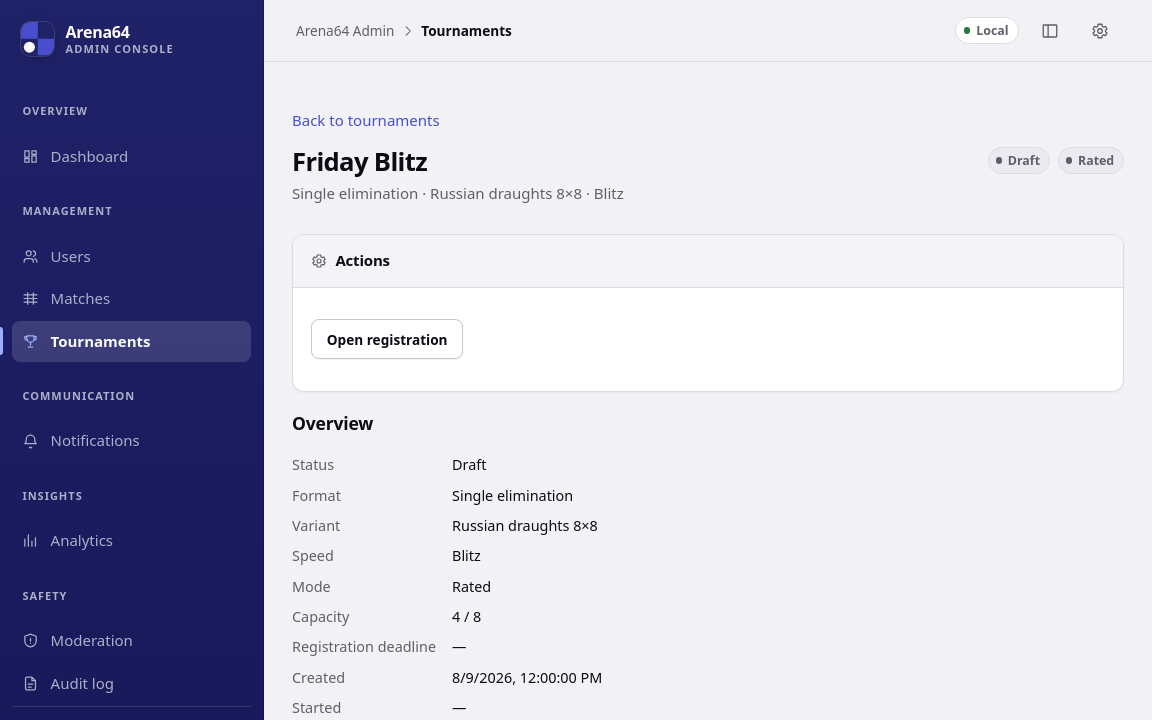
it: sends a bodyless command and re-reads the tournament afterwards
What coordinates should you click on to do the following:
click the button "Open registration"
I would click on:
 (387, 339)
Its box is [311,319,463,359].
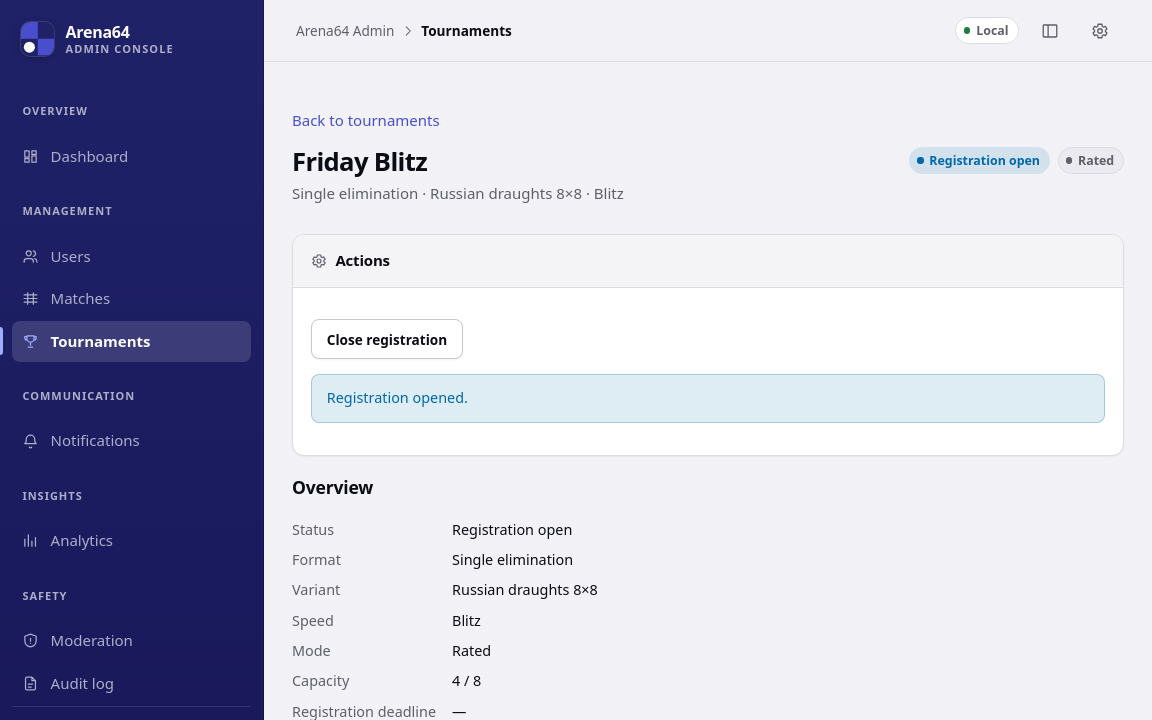
Expected: the button "Close registration" is shown, [311,319,463,359]
